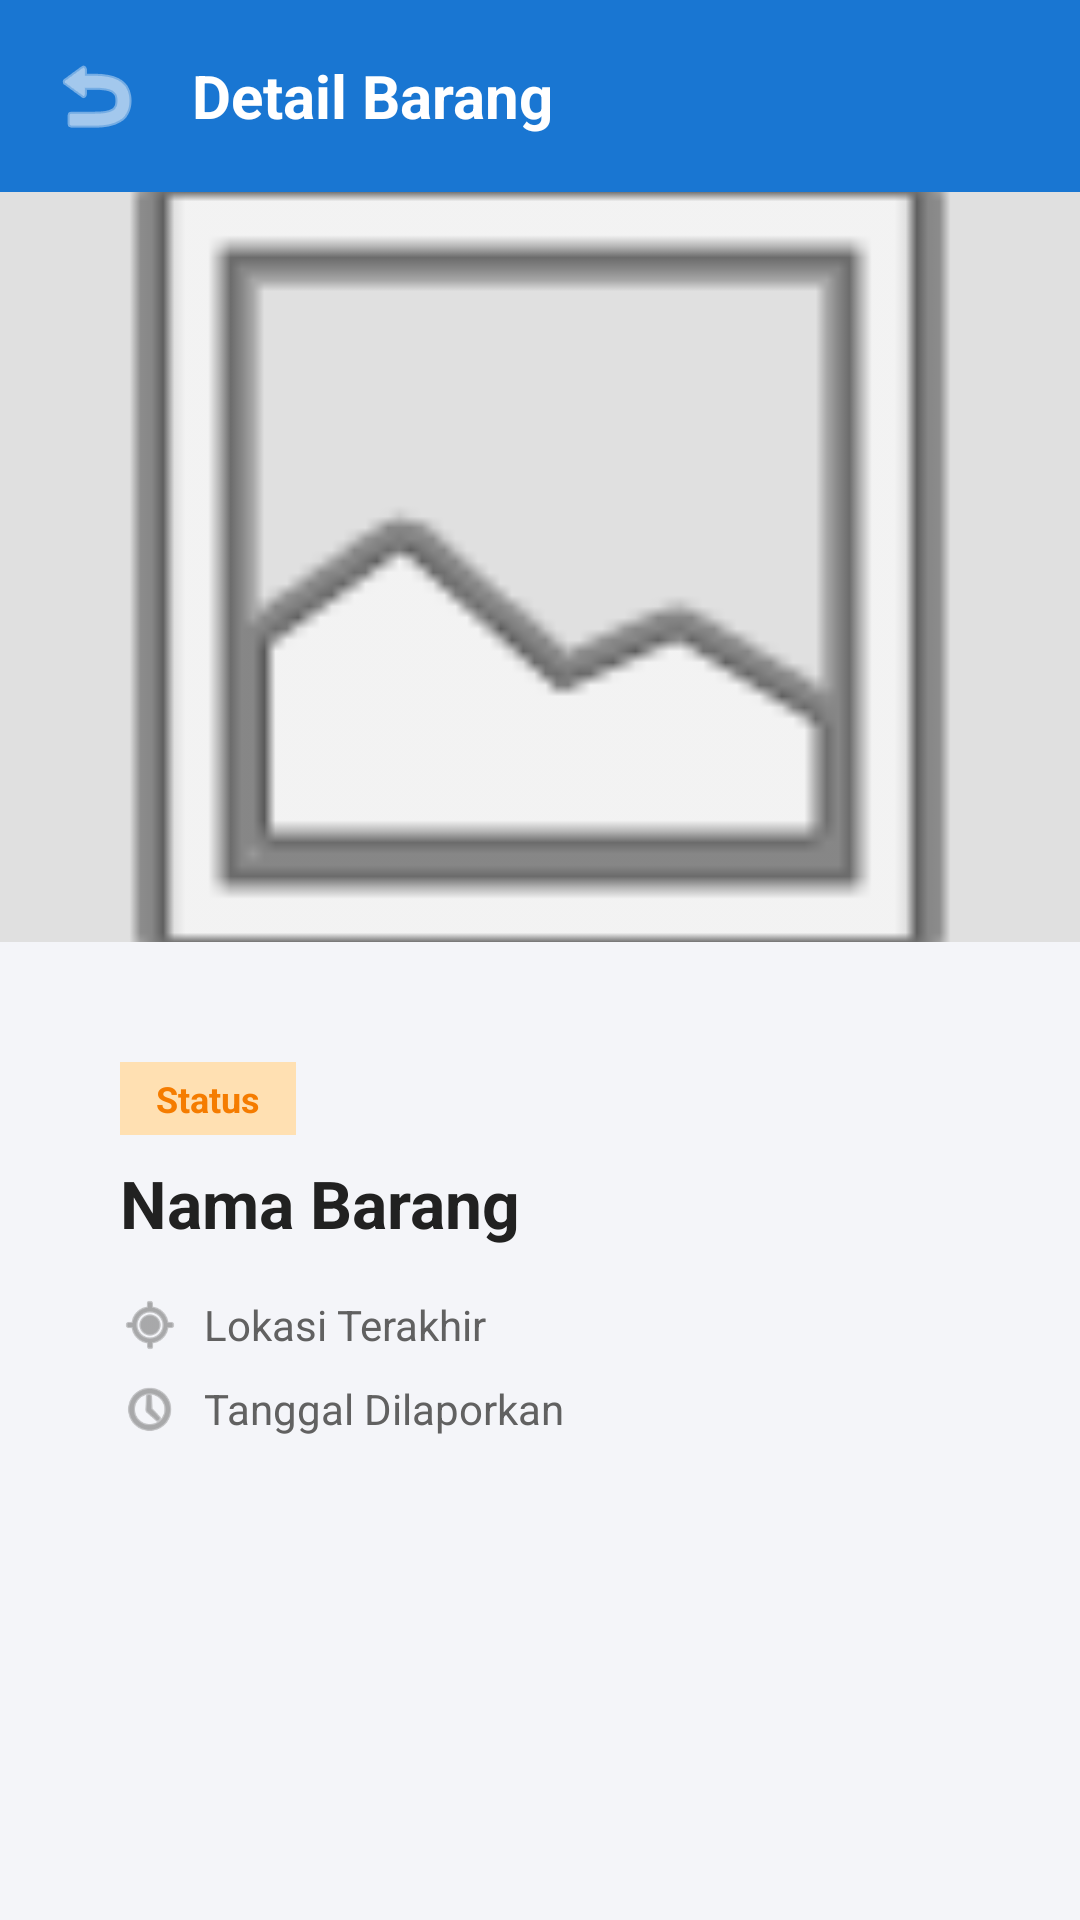

Where to tap for icons on this 1080w x 1920h app screen, as (x,y):
mylocation: (150,1325)
recent history: (149,1409)
revert: (97,96)
